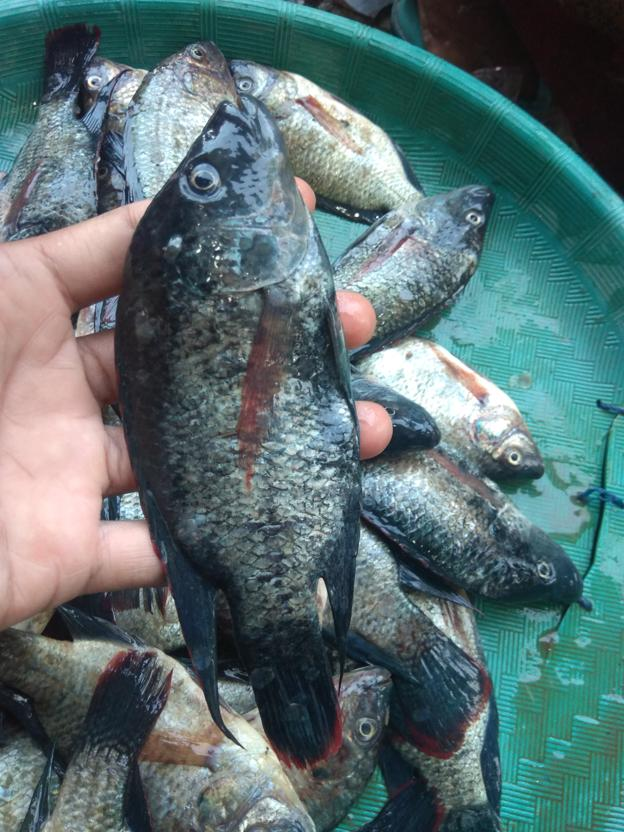Fish head: (141, 94, 333, 296), (303, 663, 395, 785), (194, 750, 318, 830), (488, 512, 582, 601), (348, 374, 441, 453), (417, 180, 497, 255), (475, 410, 546, 482), (228, 53, 300, 121), (164, 35, 232, 100), (83, 54, 140, 119)
Fish tail: (236, 625, 344, 775), (72, 647, 172, 754), (402, 625, 494, 739), (37, 18, 104, 104)
